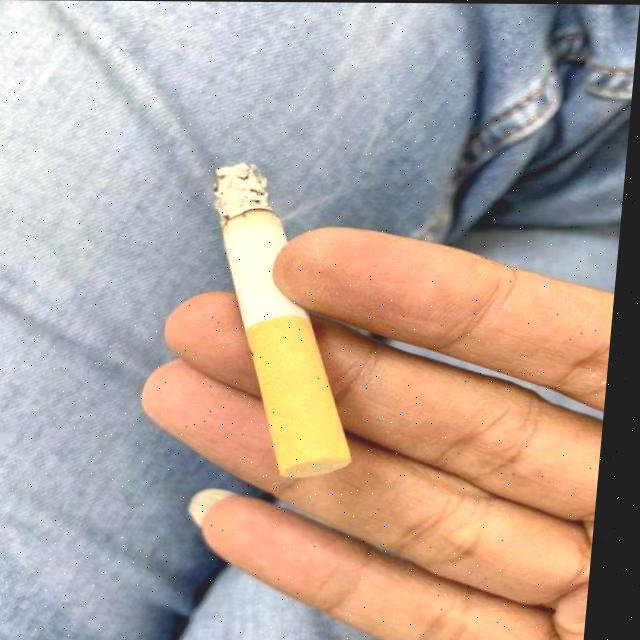cigarette: (196, 168, 379, 477)
